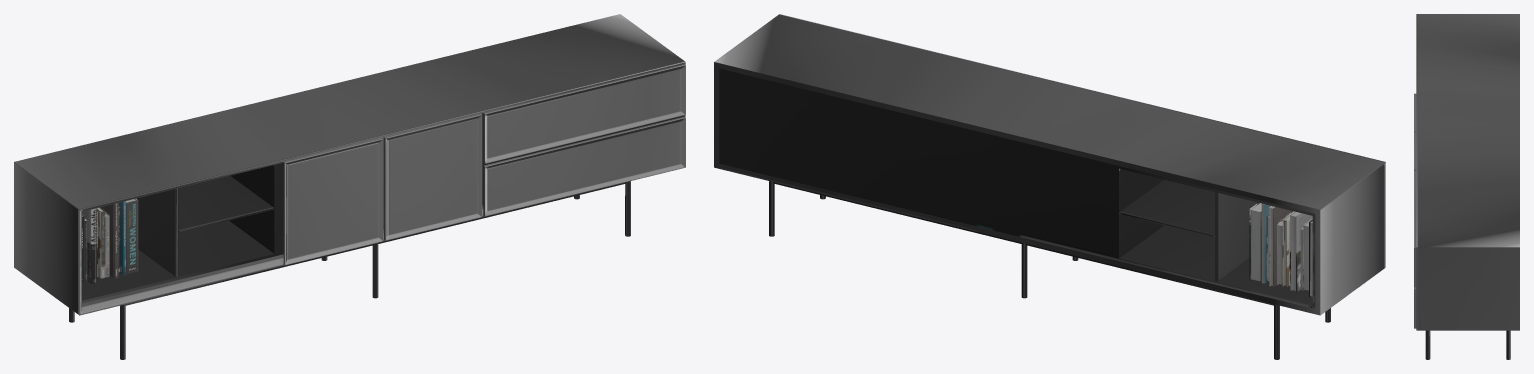
Rendered from raw_model.obj.
3 views of the same model, side by side, from view 1: azimuth 30°, elevation 25°; view 2: azimuth 150°, elevation 25°; view 3: azimuth 270°, elevation 25° (orthographic). The views are drawn at different scales.
Parts seen in each view (by area): view 1: solid_001, solid_003, solid_002, solid_013, solid_017, solid_014, solid_008; view 2: solid_002, solid_001, solid_007, solid_004, solid_006, solid_014, solid_017, solid_012; view 3: solid_001, solid_003, solid_002.
Boxes of the visible parts, box(x1,y1,x2,y2) form: solid_001: box(14, 14, 685, 315); solid_003: box(283, 64, 685, 265); solid_002: box(69, 114, 674, 359); solid_013: box(126, 198, 138, 274); solid_017: box(82, 208, 97, 283); solid_014: box(101, 203, 118, 278); solid_008: box(97, 207, 105, 278); solid_002: box(719, 68, 1330, 359); solid_001: box(714, 14, 1385, 315); solid_007: box(1270, 206, 1312, 296); solid_004: box(1267, 212, 1299, 290); solid_006: box(1251, 203, 1261, 281); solid_014: box(1269, 206, 1293, 287); solid_017: box(1290, 211, 1312, 292); solid_012: box(1261, 203, 1303, 290); solid_001: box(1416, 14, 1519, 330); solid_003: box(1414, 93, 1416, 328); solid_002: box(1425, 330, 1510, 359).
Size of the model in its own units: 2.4 by 0.63 by 0.46.
Materials: 1 (1 with a texture image).
